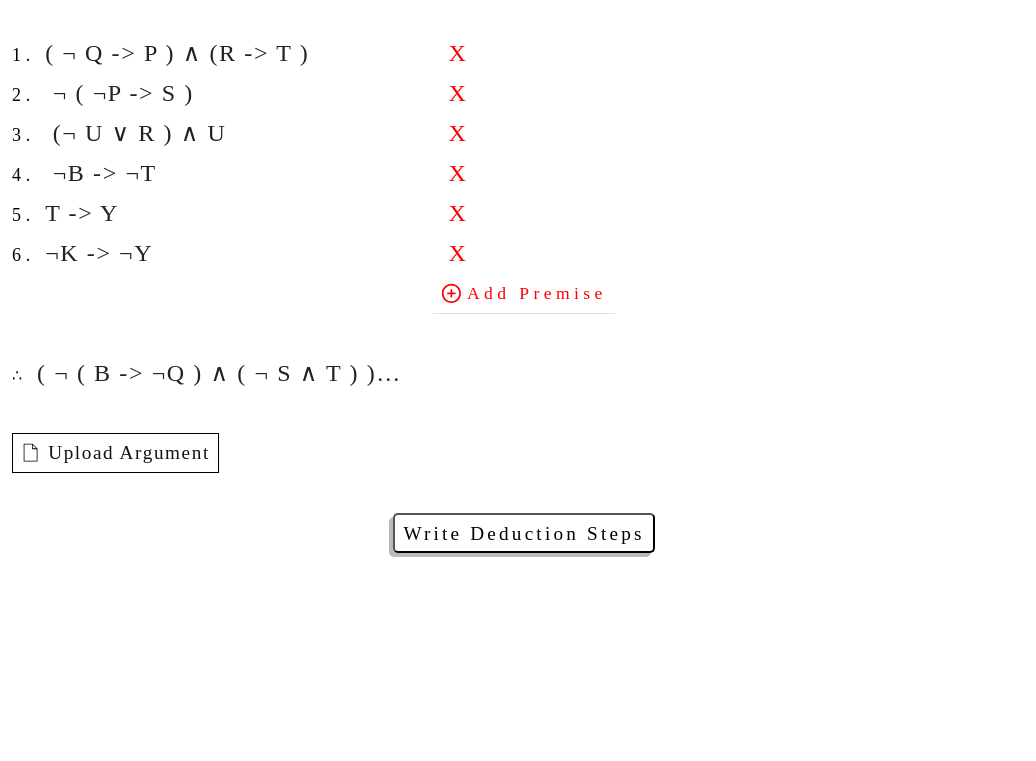
Test: Propositional Logic Body › checks for deduction steps on click
Click the button with aria-label "submit argument".
click(524, 533)  # box x1=393 y1=513 x2=655 y2=553
(page scrolled)
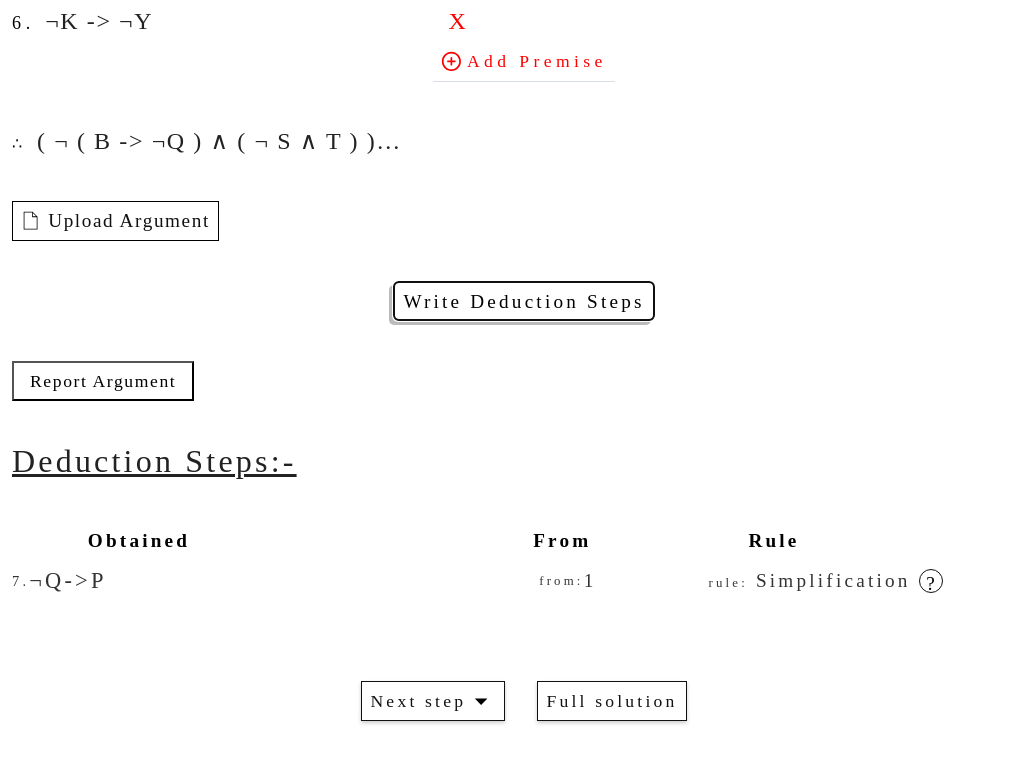
Check: the button with aria-label "show entire solution" is shown
Click the button with aria-label "show entire solution".
click(612, 701)  # box x1=538 y1=681 x2=687 y2=721
(page scrolled)
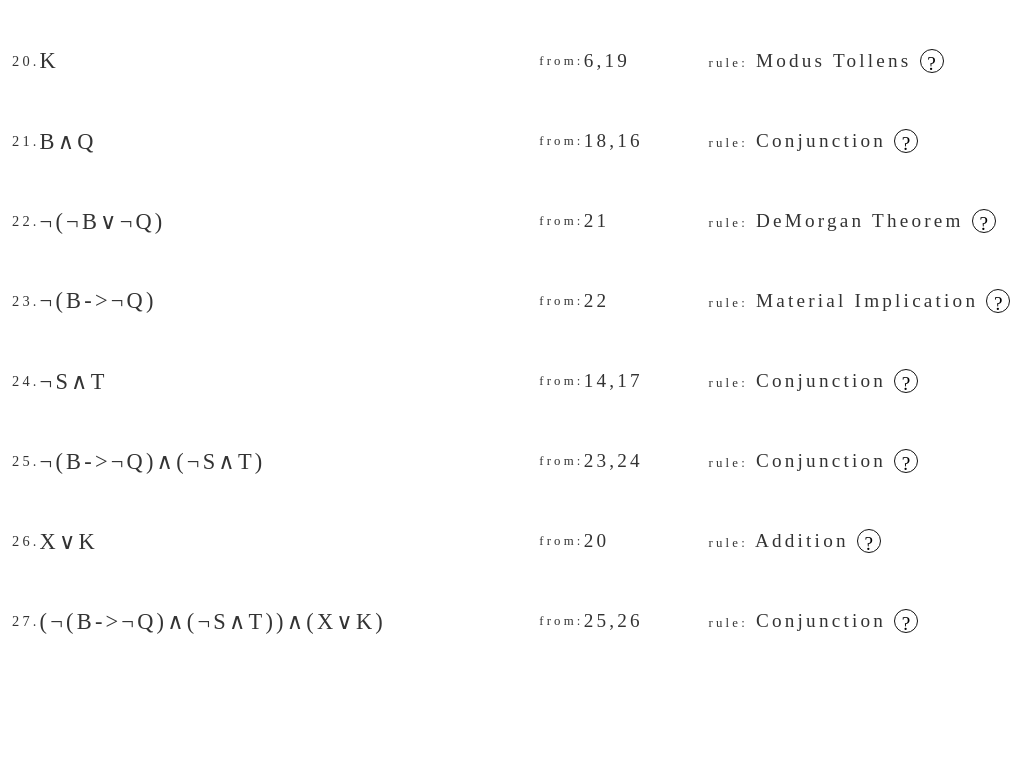
Check: the text "(¬(B->¬Q)∧(¬S∧T))∧(X∨K)" is shown, box x1=40 y1=608 x2=386 y2=634
Check: the row "20. K from: 6,19 rule: Modus Tollens ?" is shown, box x1=12 y1=41 x2=1028 y2=81
Check: the row "21. B∧Q from: 18,16 rule: Conjunction ?" is shown, box x1=12 y1=121 x2=1028 y2=161
